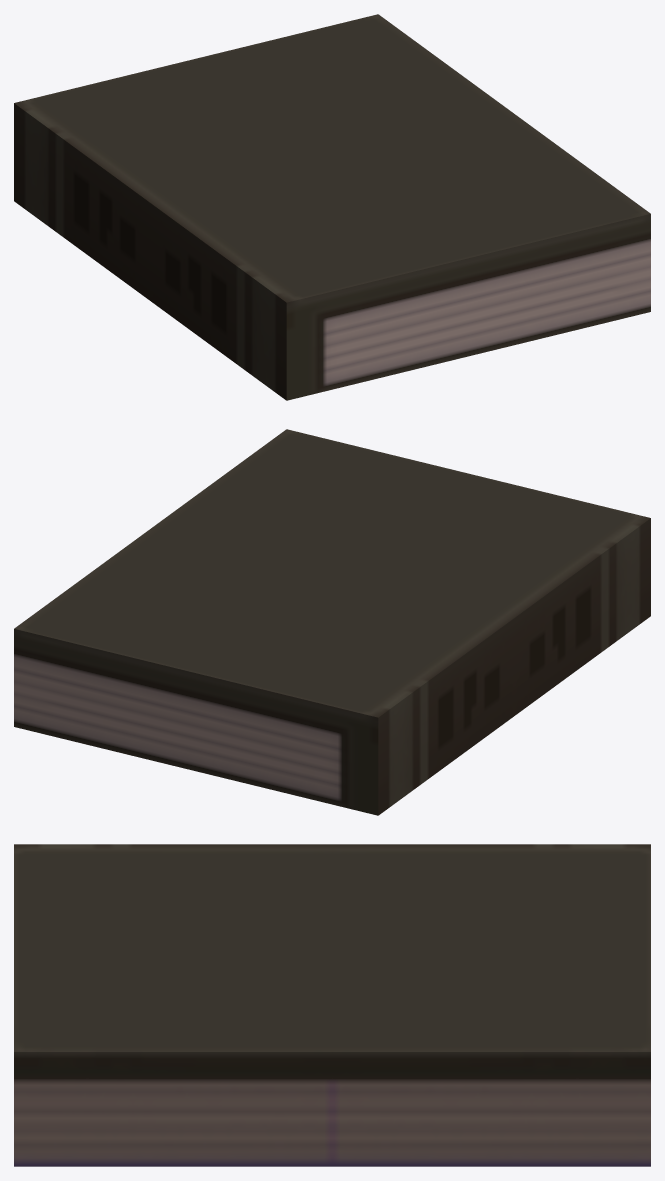
File: scenes_around_book01d.FBX
3 views of the same model, one above another, from view 1: azimuth 30°, elevation 25°; view 2: azimuth 150°, elevation 25°; view 3: azimuth 270°, elevation 25° (orthographic). The views are drawn at different scales.
Visible parts, largest first — view 1: scenes_around_book01d; view 2: scenes_around_book01d; view 3: scenes_around_book01d.
Part boxes in pixels (x1,y1,x2,y2): scenes_around_book01d: (14, 14, 650, 400); scenes_around_book01d: (14, 429, 650, 815); scenes_around_book01d: (14, 844, 650, 1166).
Bounding box in the file's own units: 4156 × 1070 × 5387.
